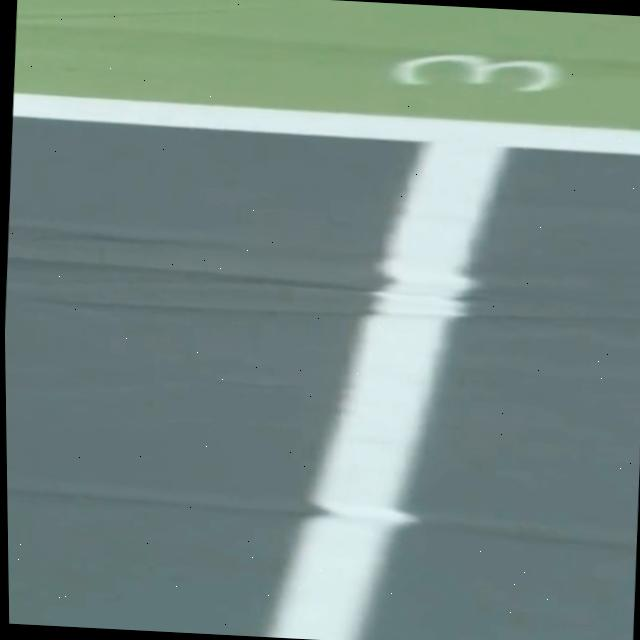right: (12, 94, 640, 155)
